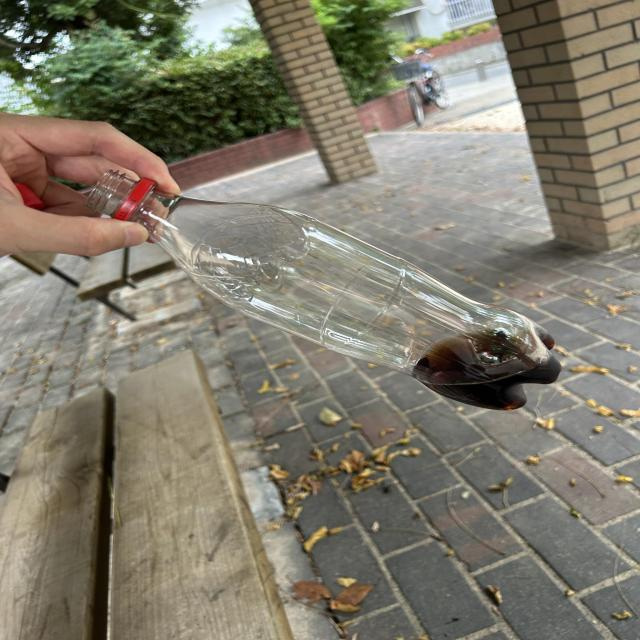low: (87, 170, 559, 410)
